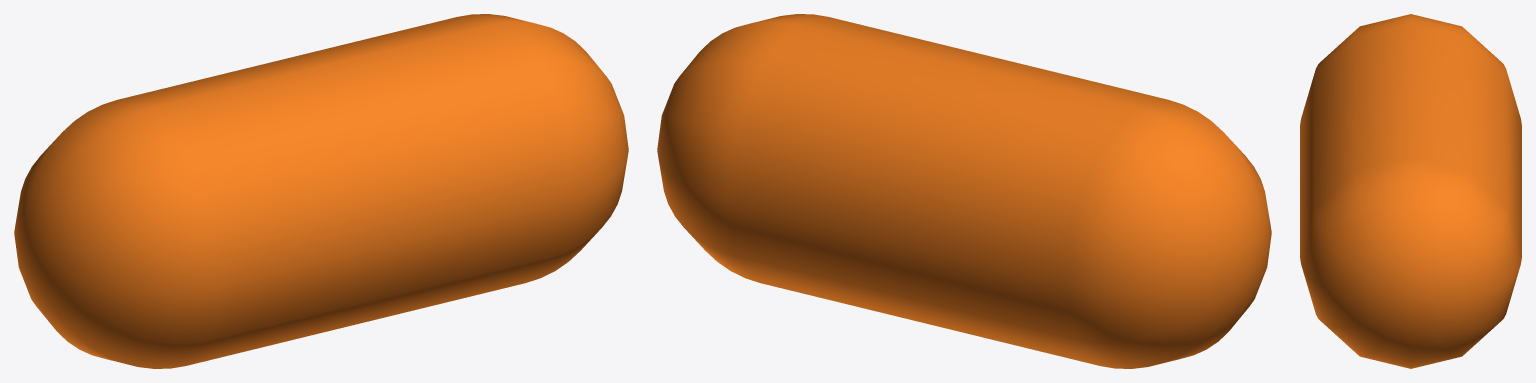
3 views of the same model, side by side, from view 1: azimuth 30°, elevation 25°; view 2: azimuth 150°, elevation 25°; view 3: azimuth 270°, elevation 25° (orthographic). The views are drawn at different scales.
Parts seen in each view (by area): view 1: gripper_frame; view 2: gripper_frame; view 3: gripper_frame.
Part boxes in pixels (box(x1,y1,x2,y2)): gripper_frame: box(14, 14, 628, 368); gripper_frame: box(657, 14, 1271, 368); gripper_frame: box(1300, 14, 1521, 368).
Size of the model in its own units: 0.0198 by 0.00818 by 0.00818.
